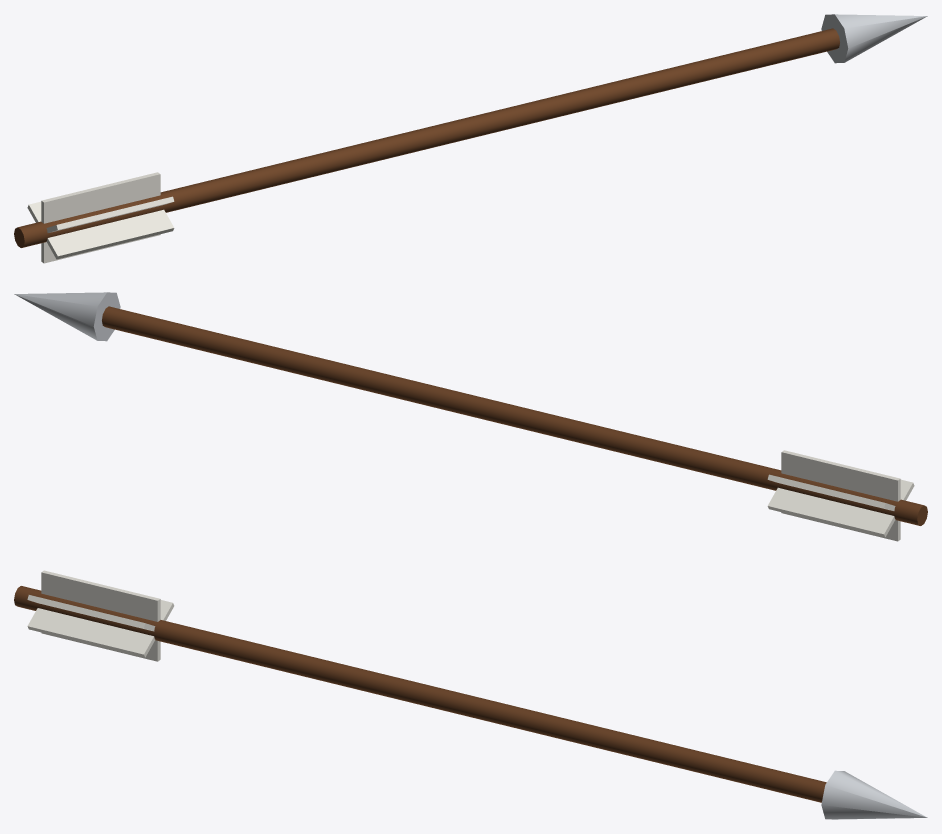
File: arrow.glb
3 views of the same model, one above another, from view 1: azimuth 30°, elevation 25°; view 2: azimuth 150°, elevation 25°; view 3: azimuth 330°, elevation 25° (orthographic).
Parts seen in each view (by area): view 1: shaft, fletch0, fletch1, head, fletch2; view 2: shaft, fletch0, fletch2, head, fletch1; view 3: shaft, fletch0, fletch1, head, fletch2.
Part boxes in pixels (x1=…): shaft: x1=14, y1=28, x2=839, y2=247; fletch0: x1=41, y1=172, x2=160, y2=263; fletch1: x1=27, y1=201, x2=174, y2=259; head: x1=821, y1=14, x2=927, y2=63; fletch2: x1=46, y1=196, x2=174, y2=232; shaft: x1=102, y1=306, x2=927, y2=525; fletch0: x1=781, y1=450, x2=900, y2=541; fletch2: x1=767, y1=479, x2=914, y2=537; head: x1=14, y1=292, x2=120, y2=341; fletch1: x1=767, y1=474, x2=895, y2=510; shaft: x1=14, y1=586, x2=826, y2=802; fletch0: x1=41, y1=570, x2=160, y2=661; fletch1: x1=27, y1=600, x2=174, y2=657; head: x1=821, y1=770, x2=927, y2=819; fletch2: x1=27, y1=595, x2=155, y2=631.
Size of the model in its own units: 0.78 by 0.05 by 0.0453.
